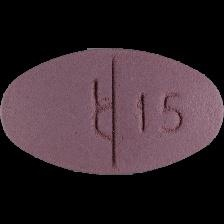51285-369: (0, 0, 224, 224)
